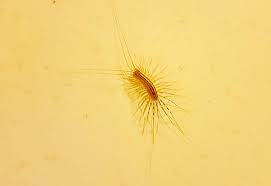centipede: (110, 48, 195, 144)
